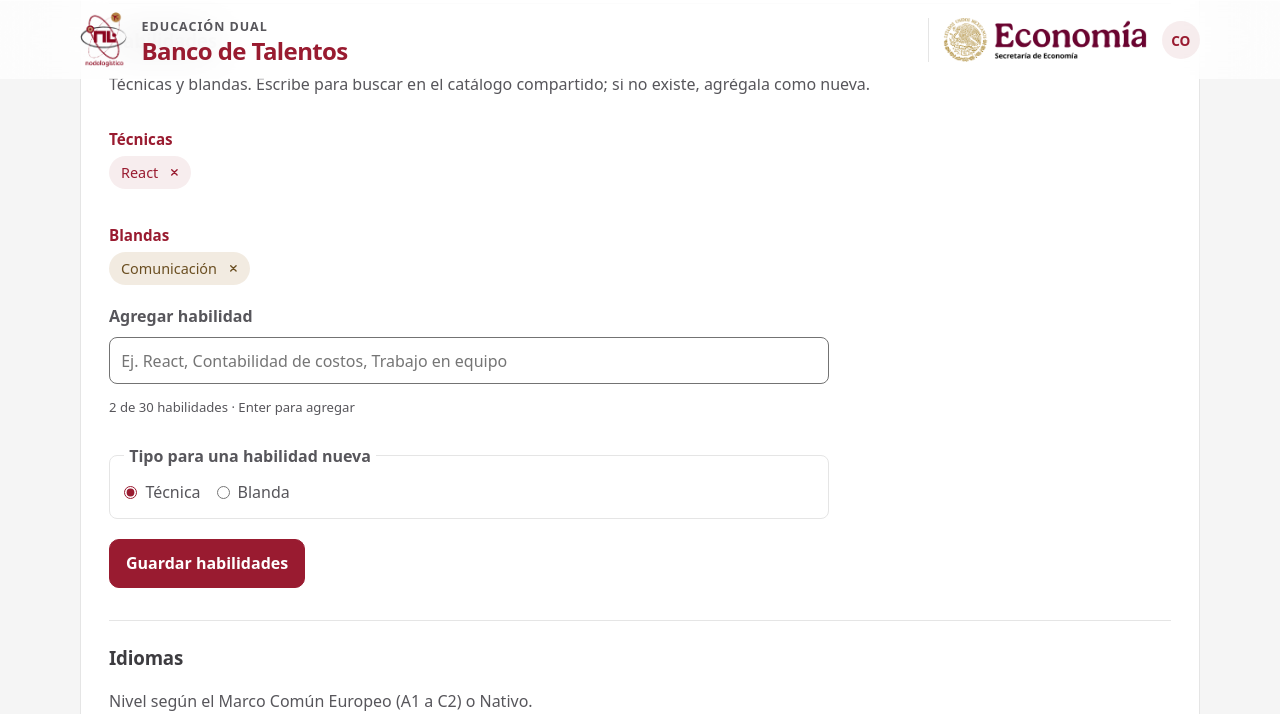
habilidades › evita duplicados y datos de contacto, quita etiquetas y guarda la lista
(page scrolled)
Step 1. Type "REACT" into the dropdown labelled "Agregar habilidad" → (469, 361), box [109, 337, 829, 384]
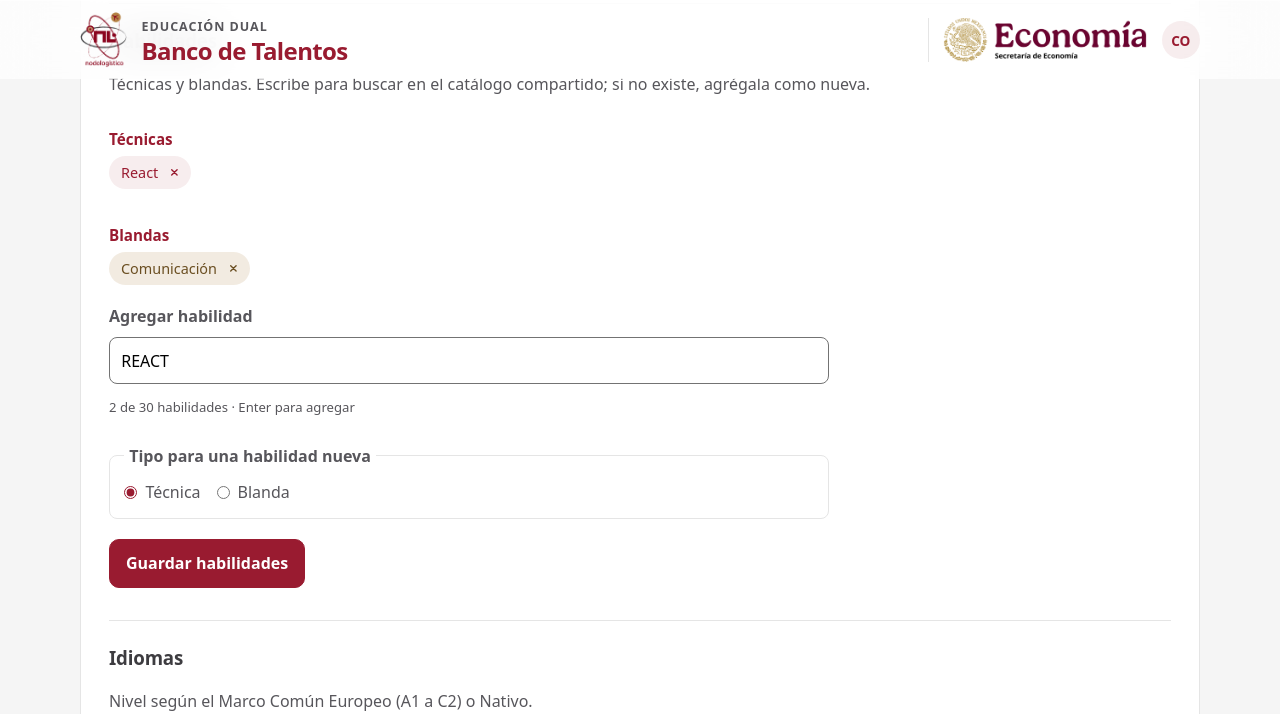
Step 2. Press Enter in the dropdown labelled "Agregar habilidad", box [109, 337, 829, 384]
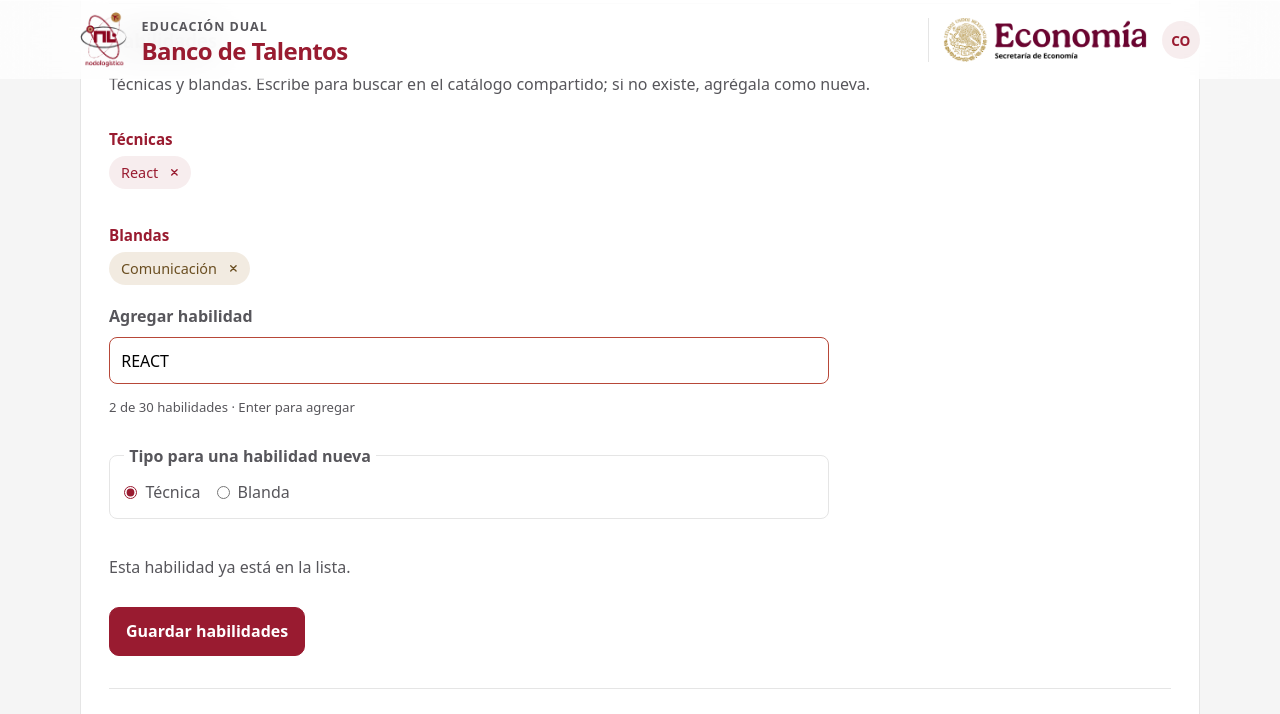
Step 3. Replace the text in the dropdown labelled "Agregar habilidad" with "github.com/ana" → (469, 361), box [109, 337, 829, 384]
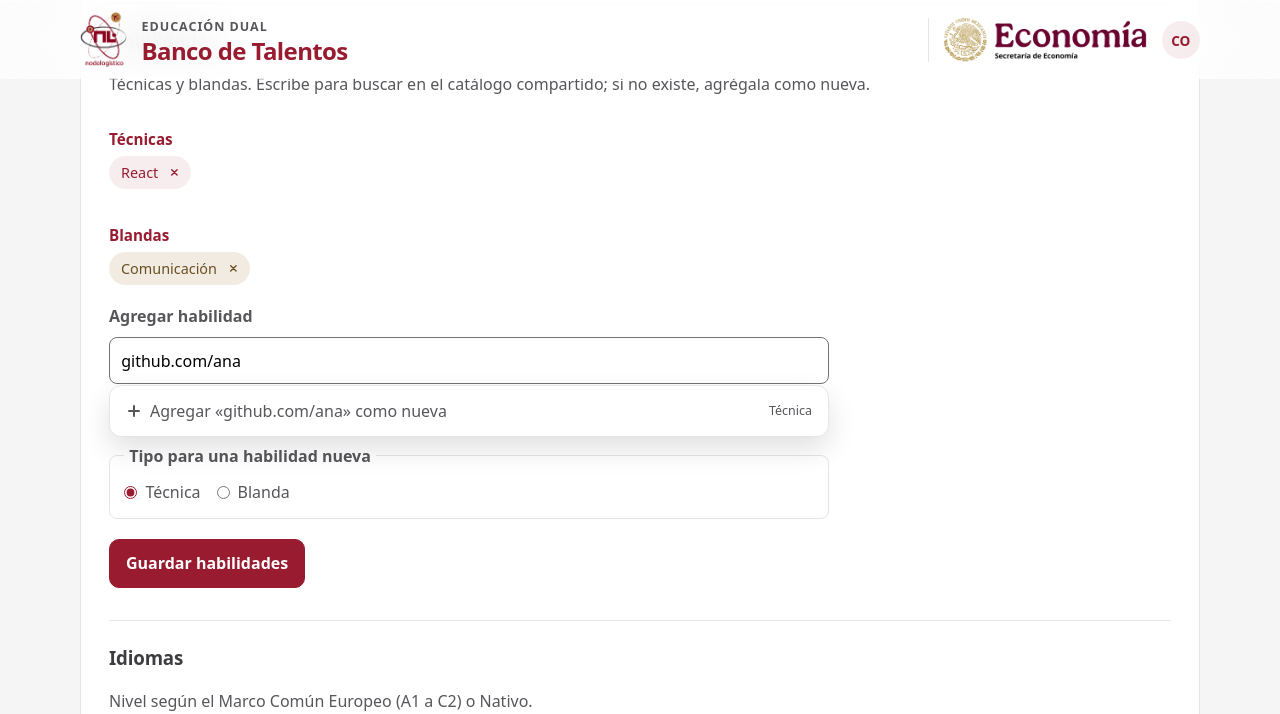
Step 4. Press Enter in the dropdown labelled "Agregar habilidad", box [109, 337, 829, 384]
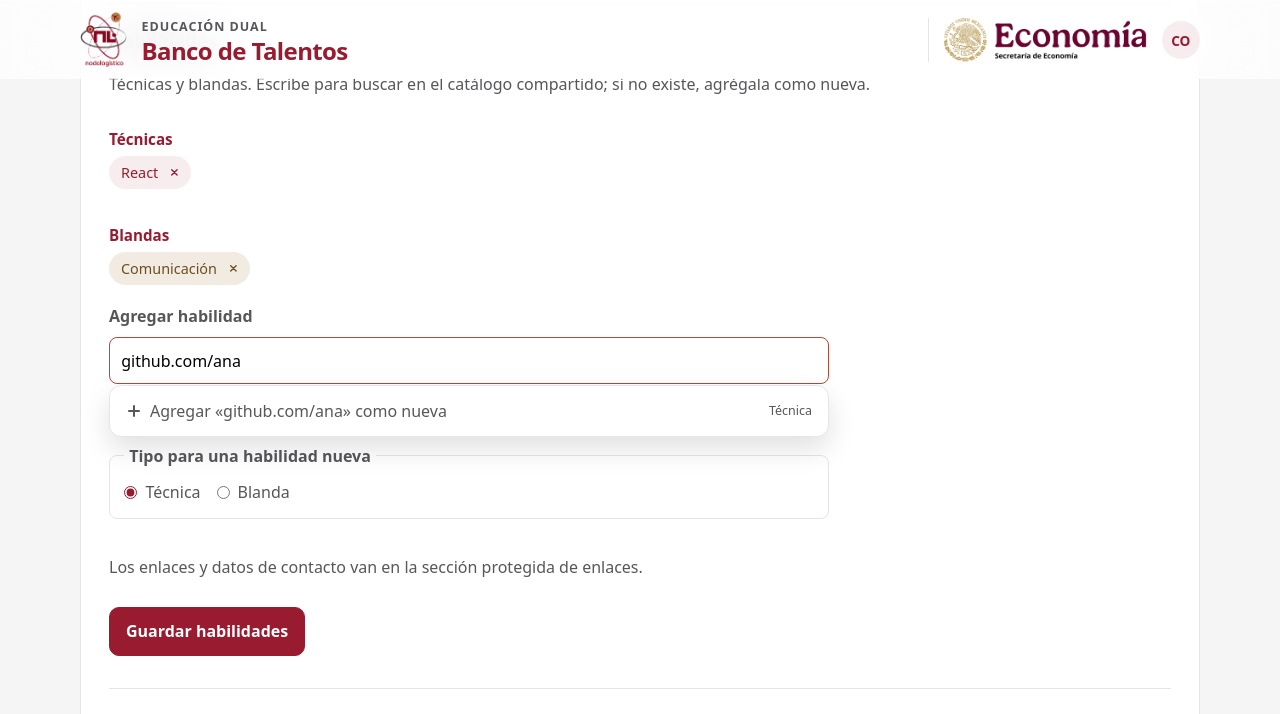
Step 5. Click the button named "Quitar Comunicación" → (233, 268), box [219, 255, 247, 282]
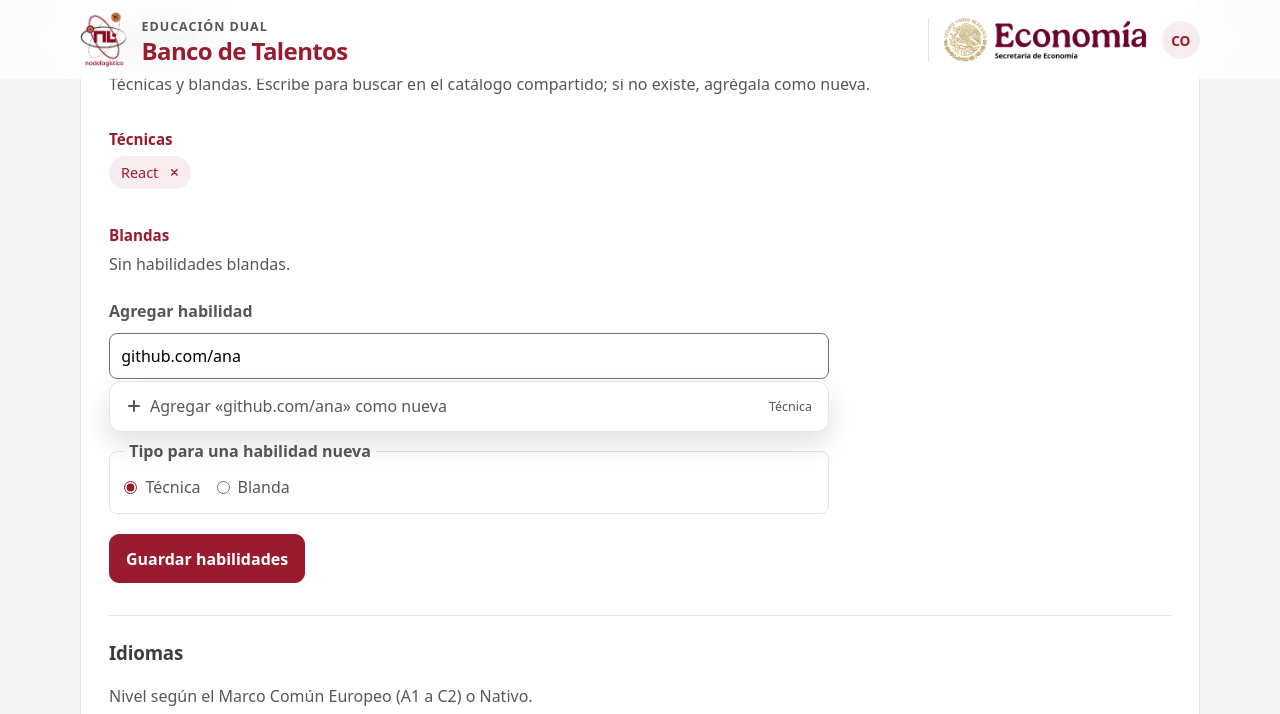
Now the text "Comunicación" is gone
Step 6. Click the button "Guardar habilidades" → (207, 559), box [109, 534, 305, 583]
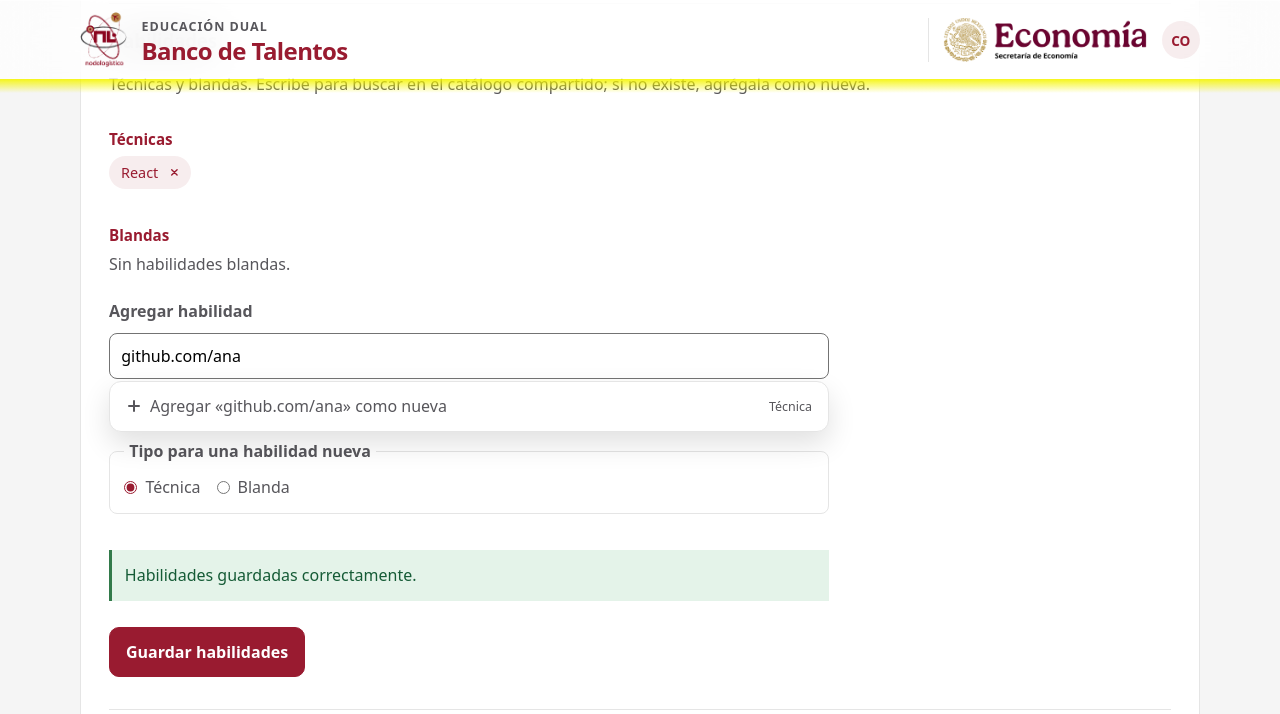
Now the text "Habilidades guardadas correctamente." is shown, box [109, 550, 829, 601]
